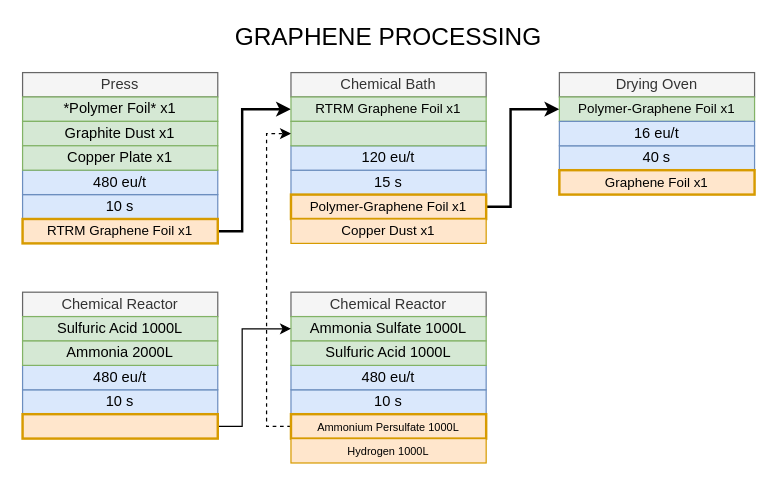
This 776x484 diagram has some shape labels left out. The centre of each missing label's shape, as x and y in pixels:
"Ammonium Persulfate 200L" goes at [388,133].
"Ammonium Sulfate 3000L" goes at [119,425].
